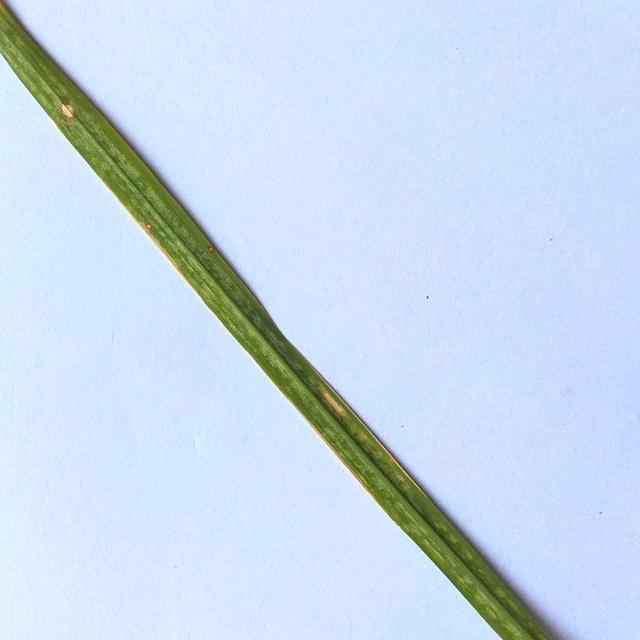Blast: (317, 386, 348, 422), (56, 101, 82, 120), (202, 242, 220, 256), (140, 220, 158, 232)
